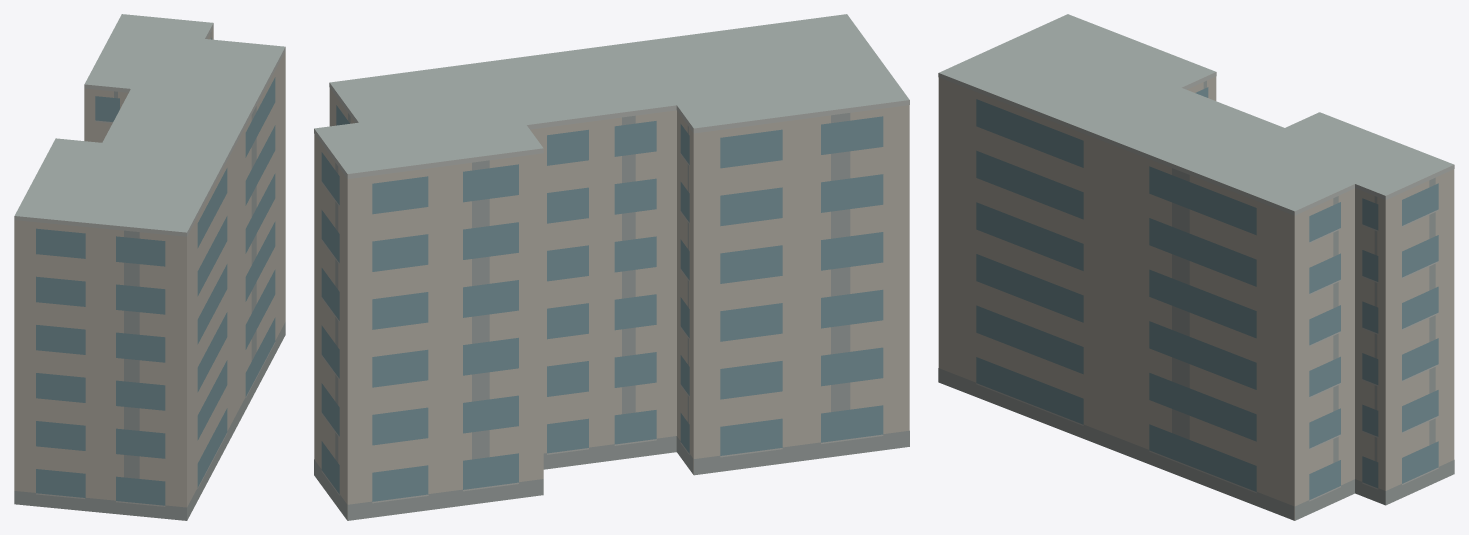
Rendered from survey-upis-32877151.glb.
The picture shows the model from 3 angles, left to right: view 1: azimuth 30°, elevation 25°; view 2: azimuth 150°, elevation 25°; view 3: azimuth 270°, elevation 25°; orthographic projection. The views are drawn at different scales.
Parts seen in each view (by area): view 1: survey-upis-32877151.tmp; view 2: survey-upis-32877151.tmp; view 3: survey-upis-32877151.tmp.
Part boxes in pixels (x1,y1,x2,y2): survey-upis-32877151.tmp: [14, 14, 285, 520]; survey-upis-32877151.tmp: [314, 14, 909, 520]; survey-upis-32877151.tmp: [938, 14, 1454, 520].
Size of the model in its own units: 23.53 by 17.2 by 25.99.
